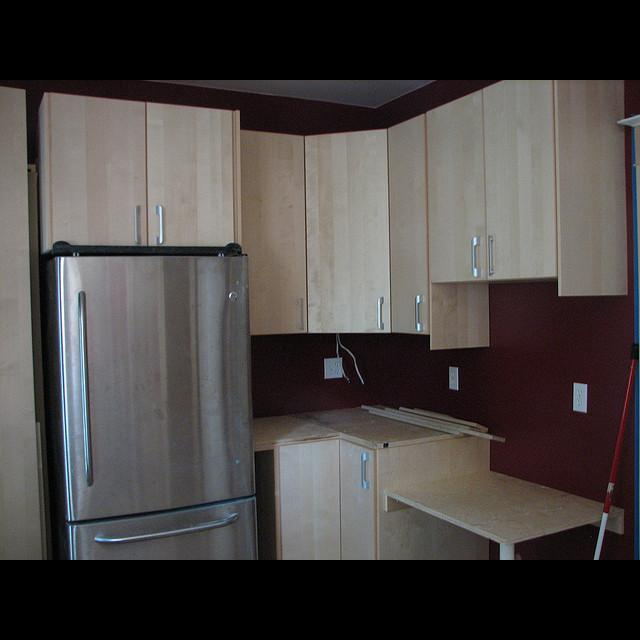Refrigerator: (46, 248, 257, 555)
